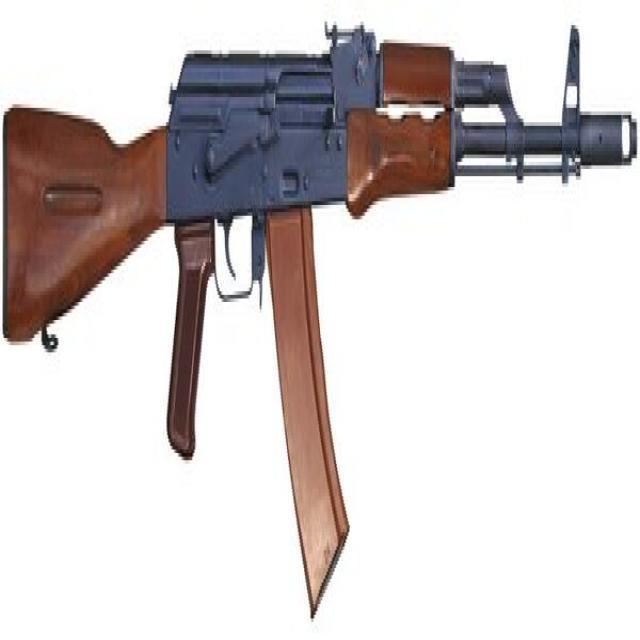ak: (0, 18, 640, 613)
